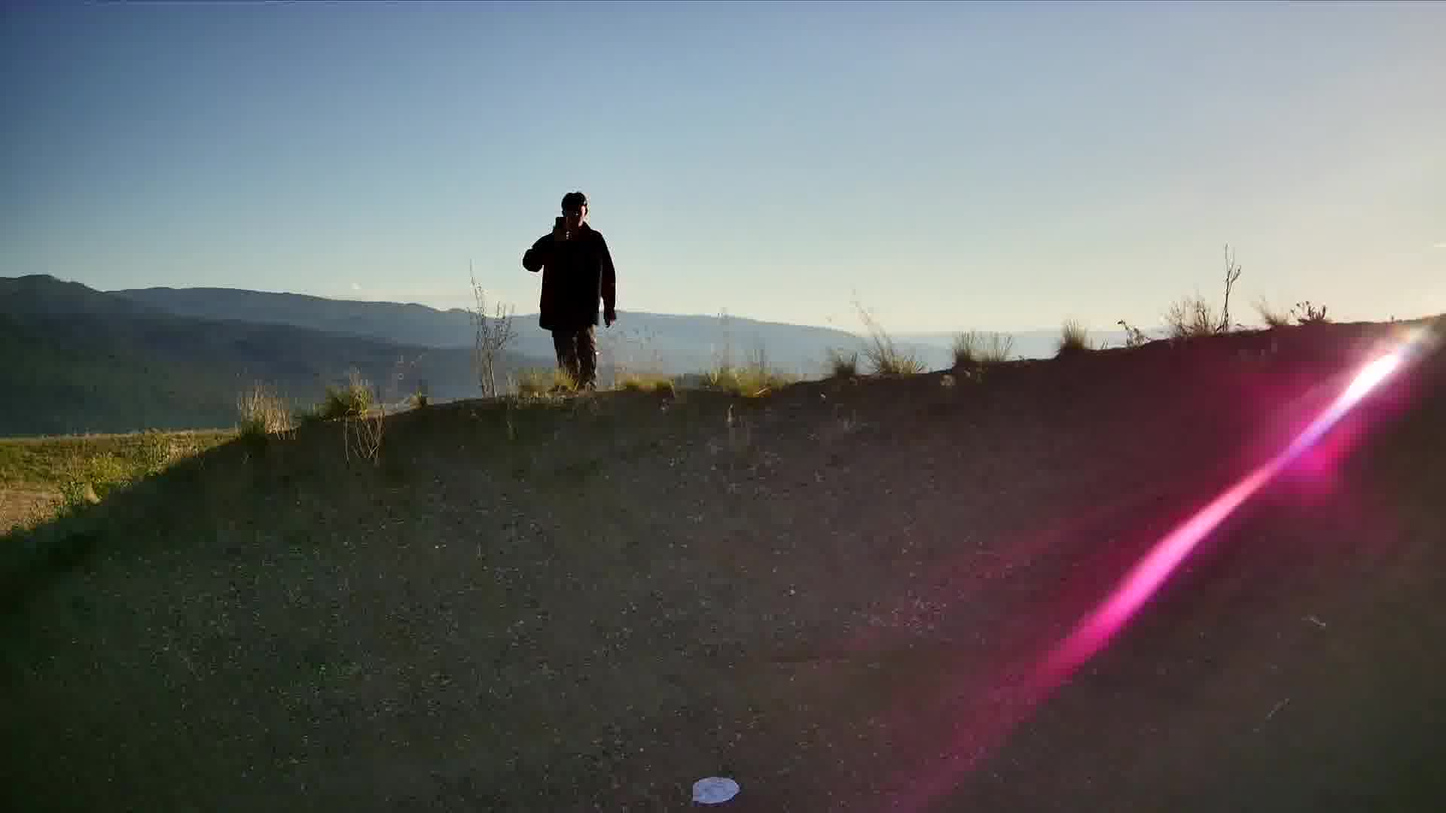Target: (691, 774, 739, 802)
